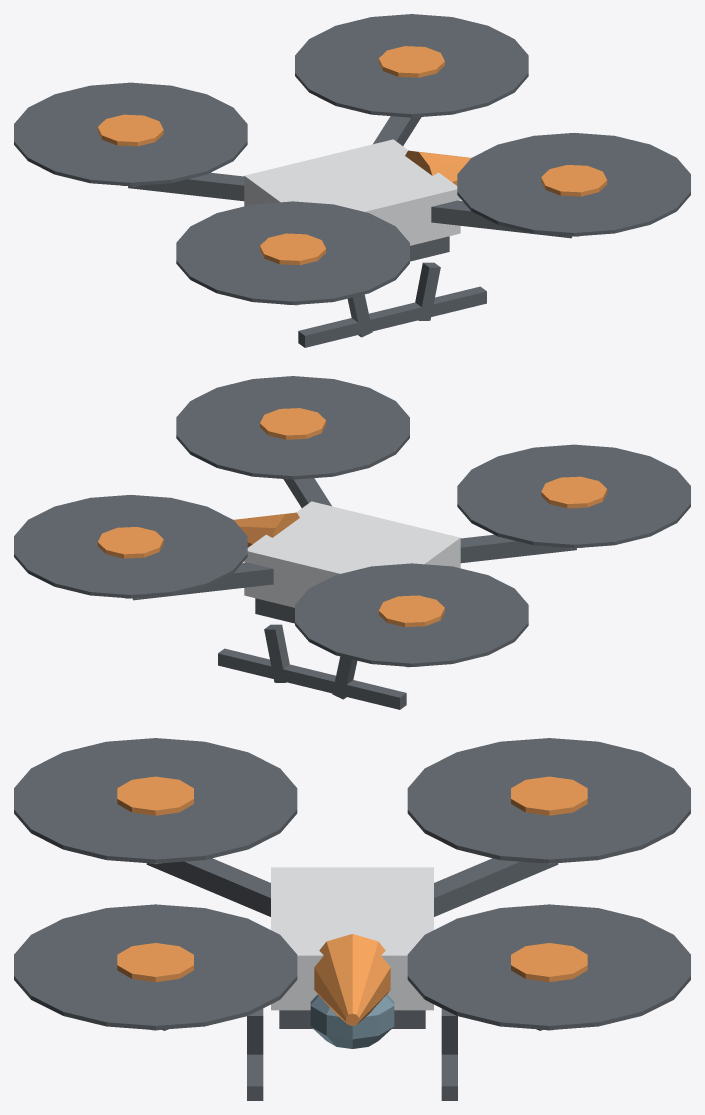
The model's file is quadcopter.glb.
3 views of the same model, one above another, from view 1: azimuth 30°, elevation 25°; view 2: azimuth 150°, elevation 25°; view 3: azimuth 270°, elevation 25° (orthographic). The views are drawn at different scales.
Bounding box in the file's own units: 2.94 × 0.83 × 2.92.
